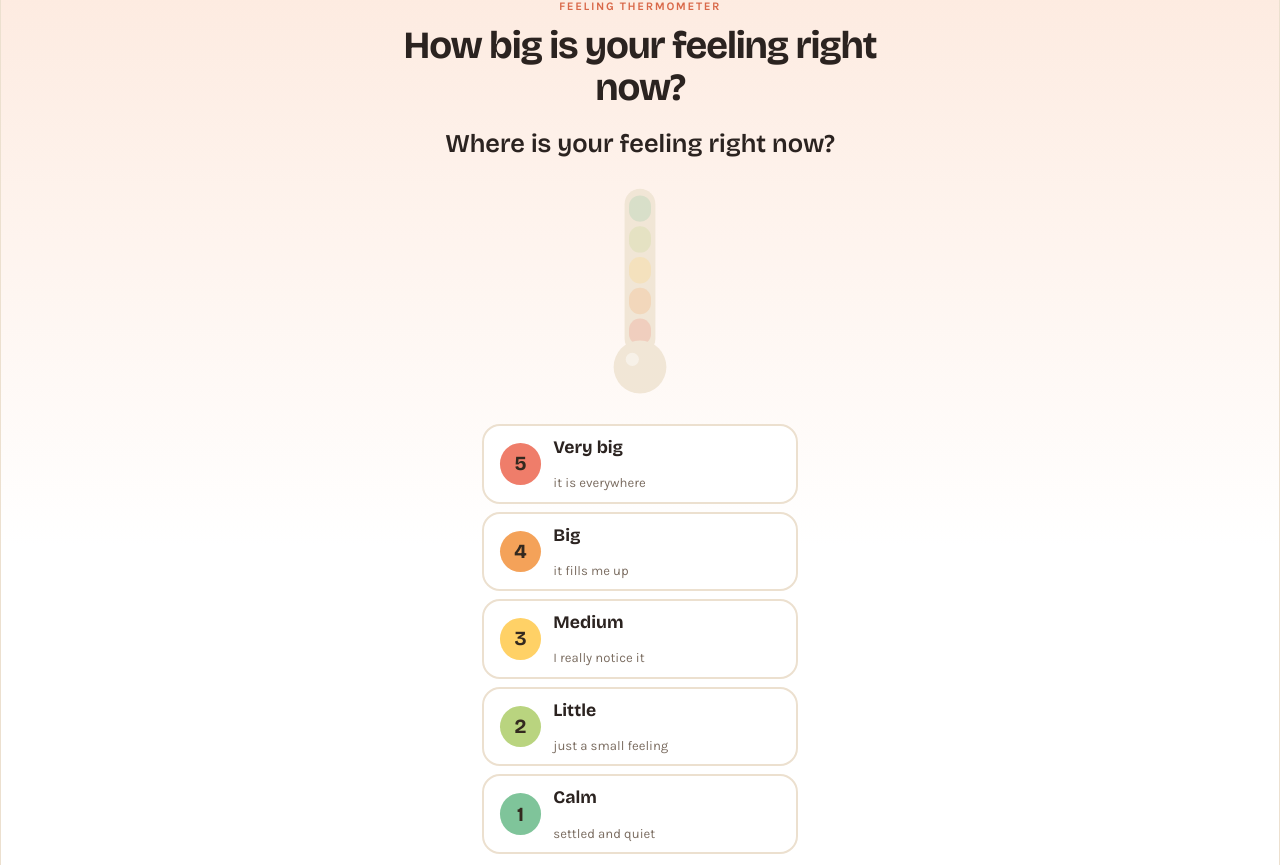
Scenario: Feeling Thermometer › lets the child skip the body stage entirely
The image size is (1280, 865).
Click the button "3 Medium I really notice it".
click(520, 639)  # box [482,599,798,679]
(page scrolled)
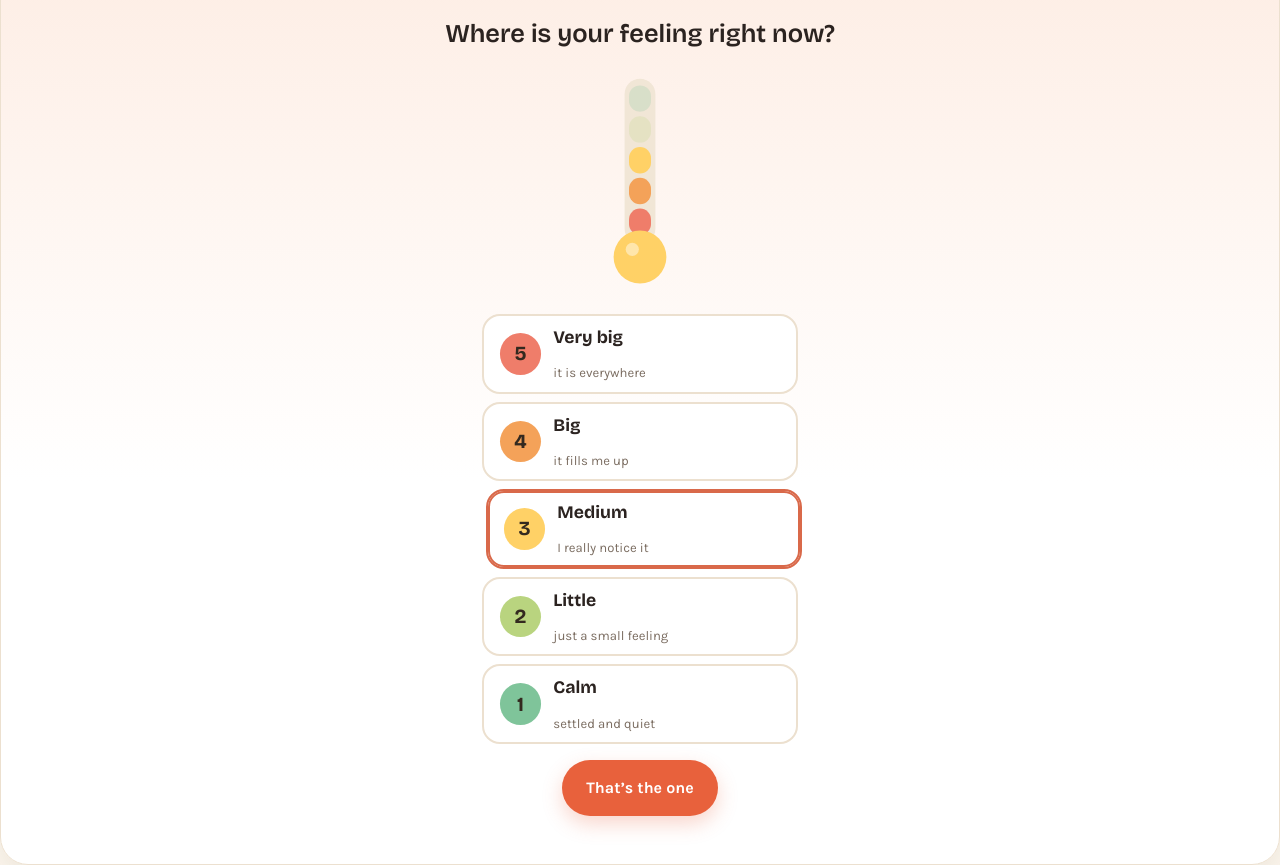
Click the button "That’s the one".
click(640, 788)  # box [562,760,718,816]
(page scrolled)
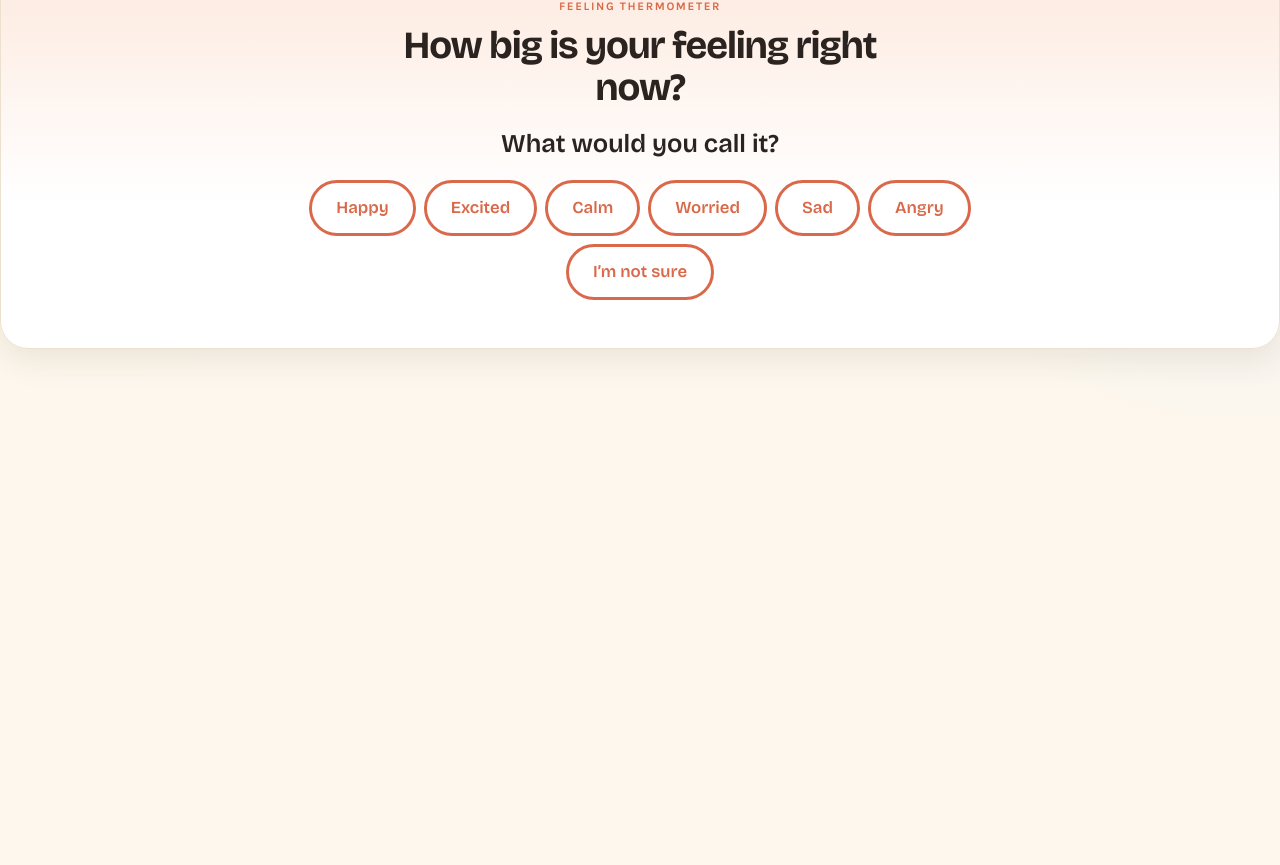
Click the button "Happy".
click(362, 208)  # box [309,180,416,236]
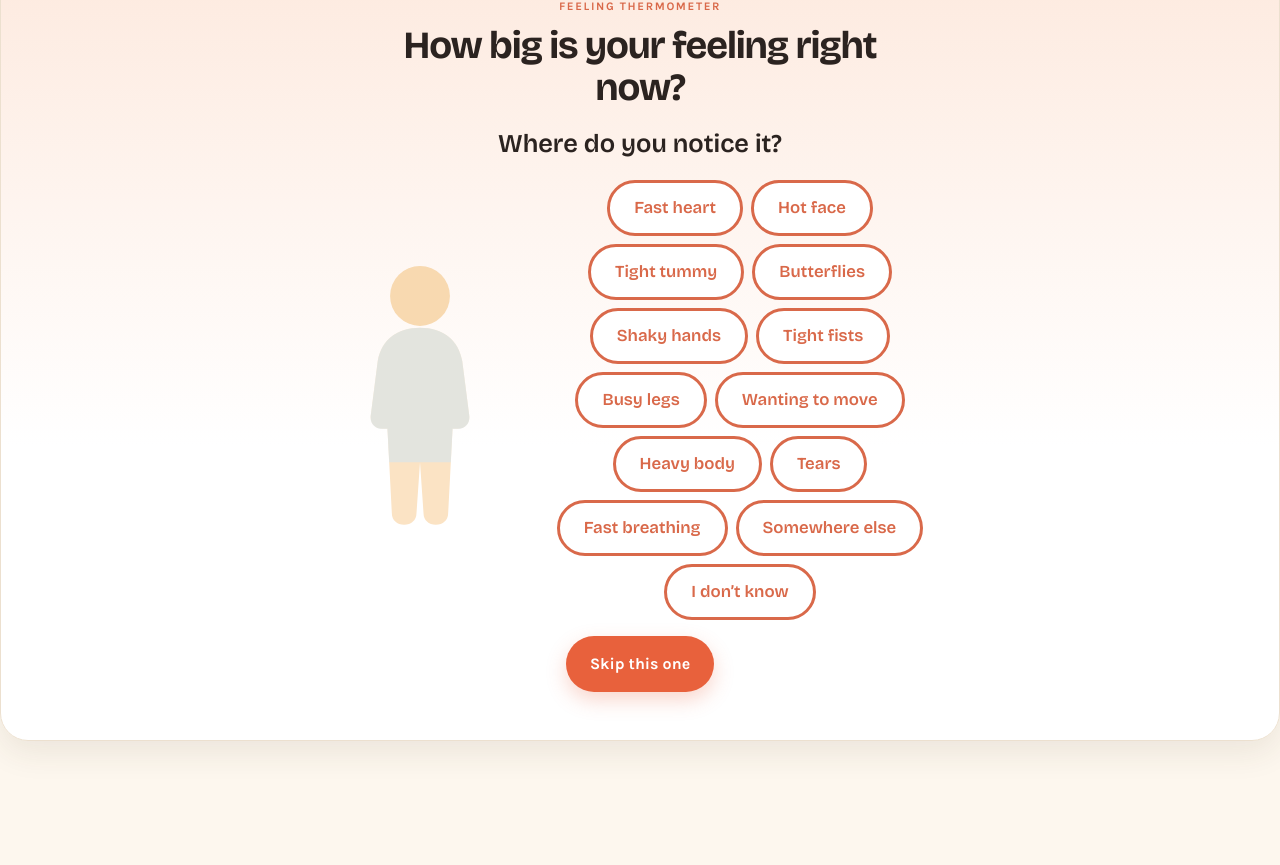
Click the button "Skip this one".
click(640, 664)  # box [566,636,714,692]
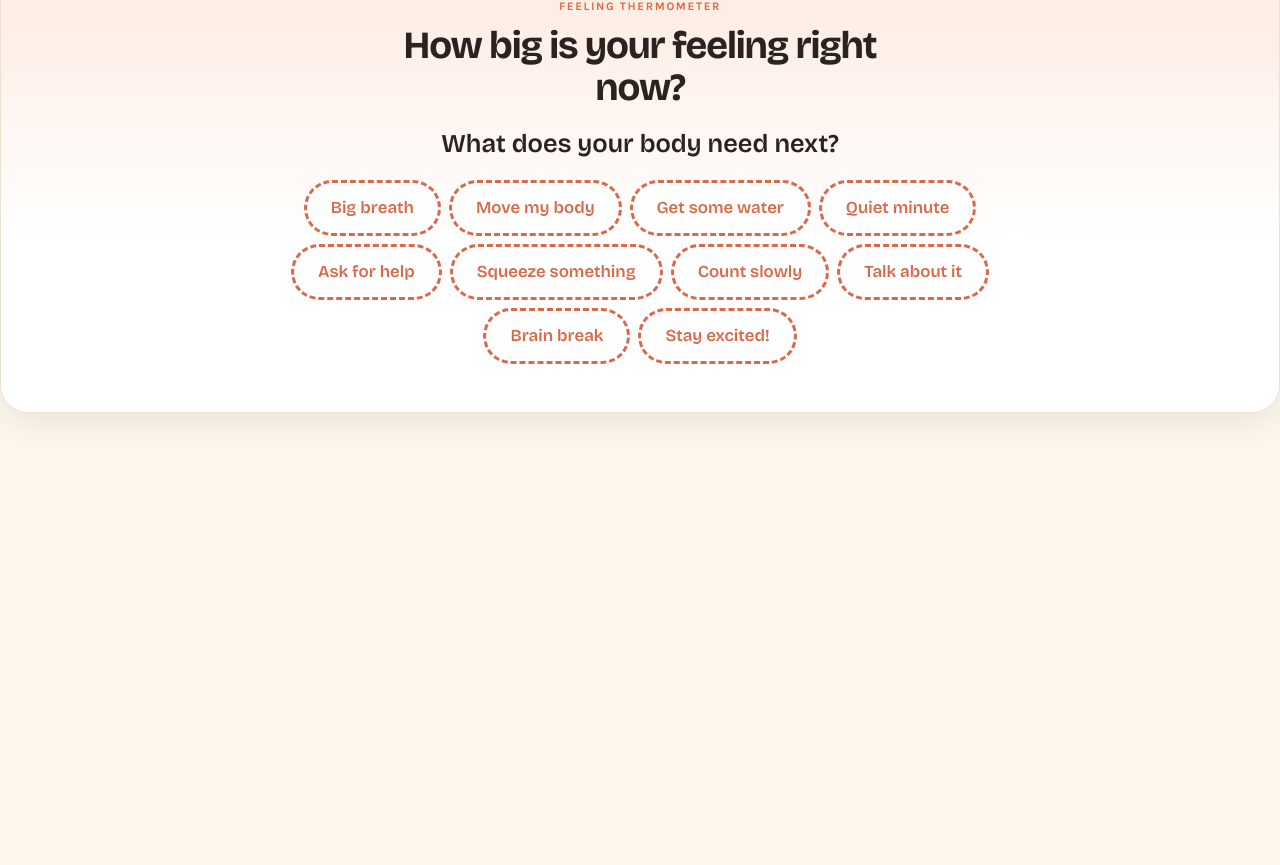
Now the text "What does your body need next?" is shown, box [441,124,839,164]
